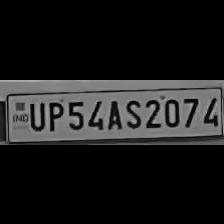0: (160, 94, 180, 126)
2: (142, 94, 162, 128)
4: (198, 92, 220, 126), (84, 95, 104, 129)
5: (64, 96, 84, 130)
7: (180, 93, 198, 126)
A: (104, 96, 122, 130)
P: (44, 97, 64, 131)
S: (120, 96, 142, 128)
U: (25, 98, 45, 130)
